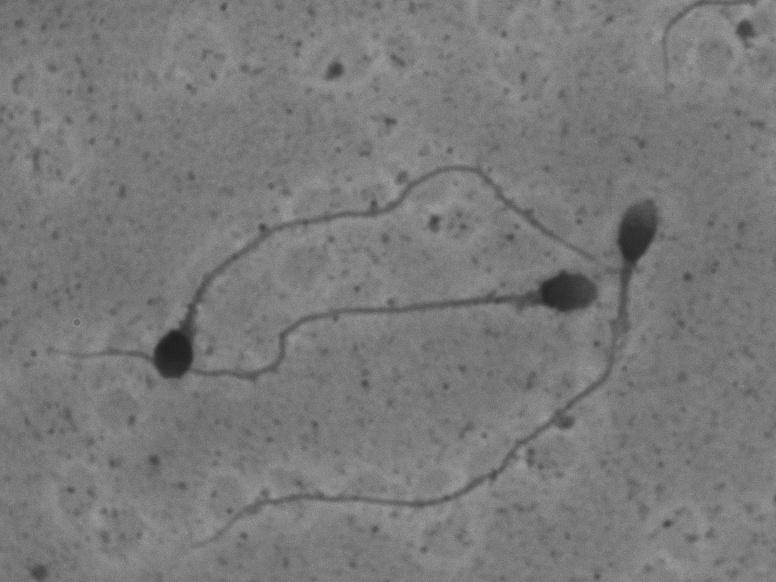Abnormal: (135, 152, 596, 397)
Normal: (181, 191, 670, 558), (44, 261, 608, 394)
